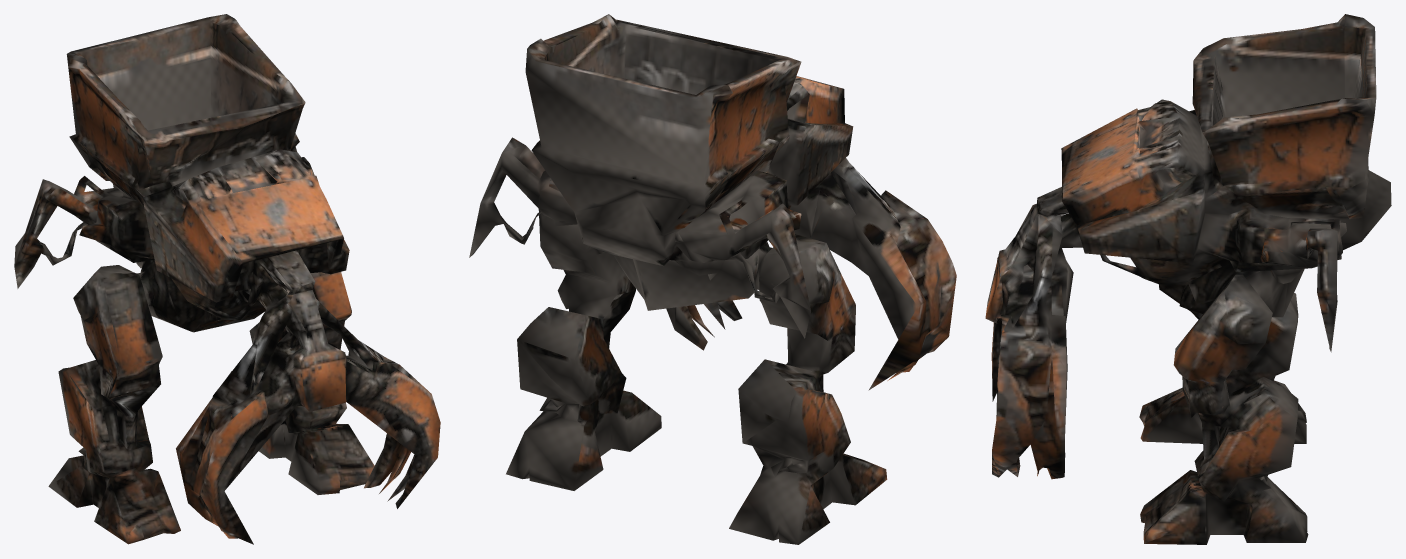
The model's file is scrapjaw_lod2.glb.
3 views of the same model, side by side, from view 1: azimuth 30°, elevation 25°; view 2: azimuth 150°, elevation 25°; view 3: azimuth 270°, elevation 25° (orthographic). The views are drawn at different scales.
Visible parts, largest first — view 1: geometry_0; view 2: geometry_0; view 3: geometry_0.
Part boxes in pixels (box(x1,y1,x2,y2)): geometry_0: box(14, 14, 440, 544); geometry_0: box(469, 14, 956, 544); geometry_0: box(985, 14, 1391, 544).
Bounding box in the file's own units: 1.53 × 2 × 1.74.
1 material, 1 textured.
